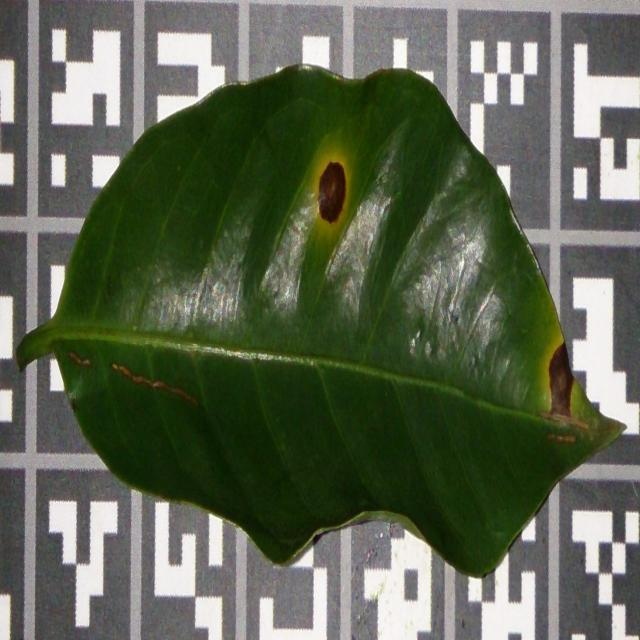Enfermedad-Mancha-de-hierro: (23, 67, 624, 580)
